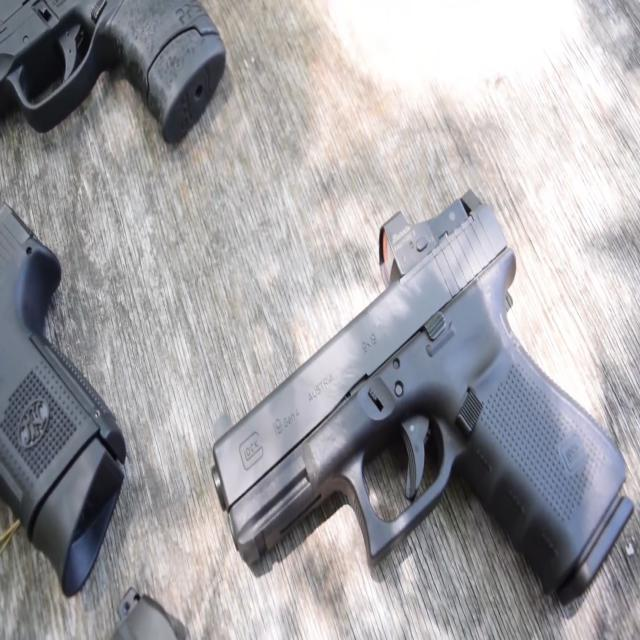handgun: (186, 187, 638, 639)
